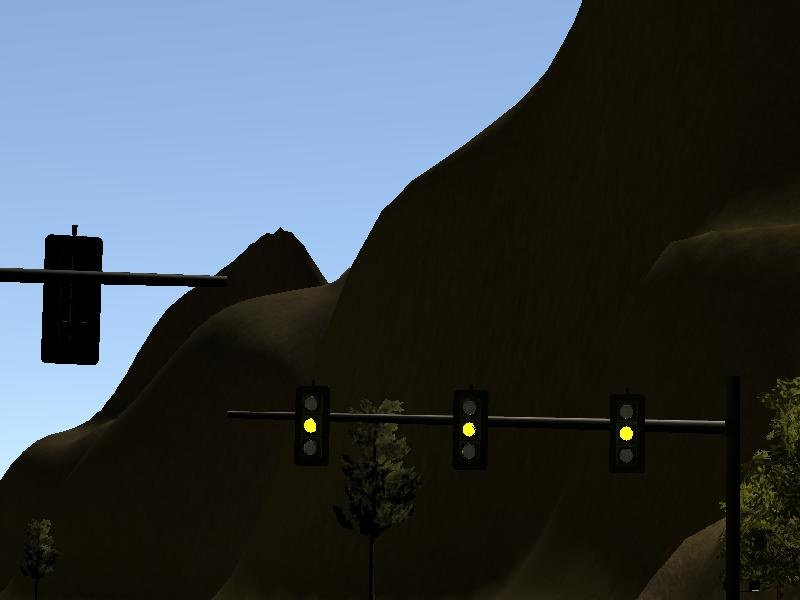yellow: (611, 395, 647, 475), (296, 387, 332, 467), (454, 390, 489, 472)
